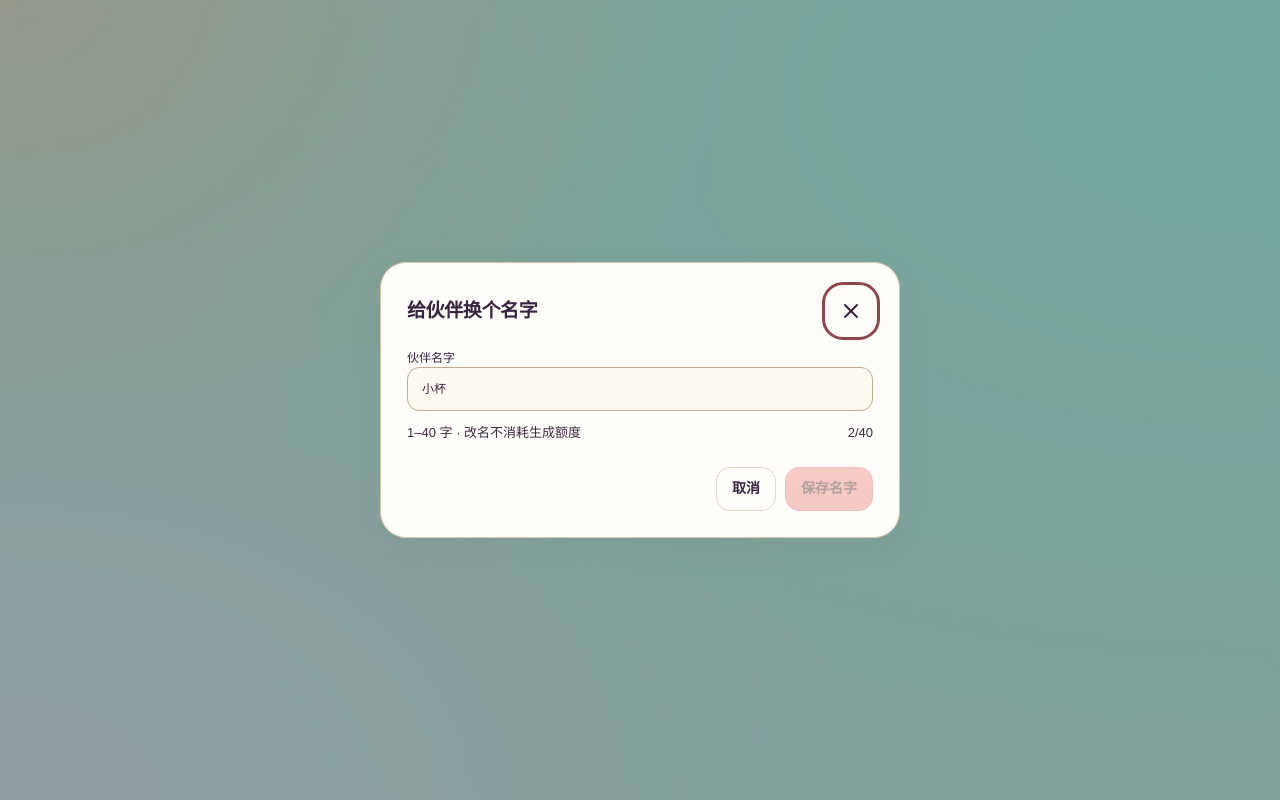
Test: keeps the typed name after a lost response and queries before saving again
Replace the text in the field labelled "伙伴名字" with "新名字": (640, 389) [407,367,873,411]
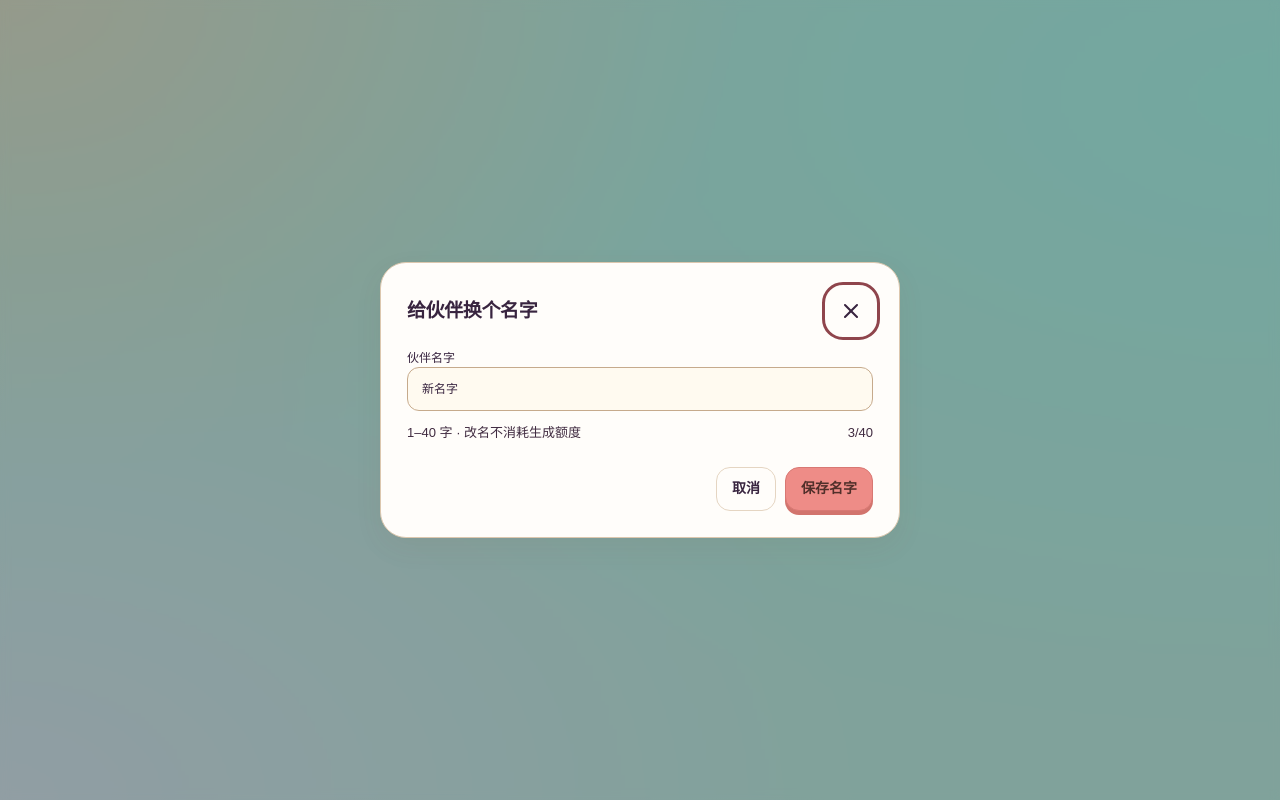
Click the button "保存名字": (829, 489) [785,467,873,511]
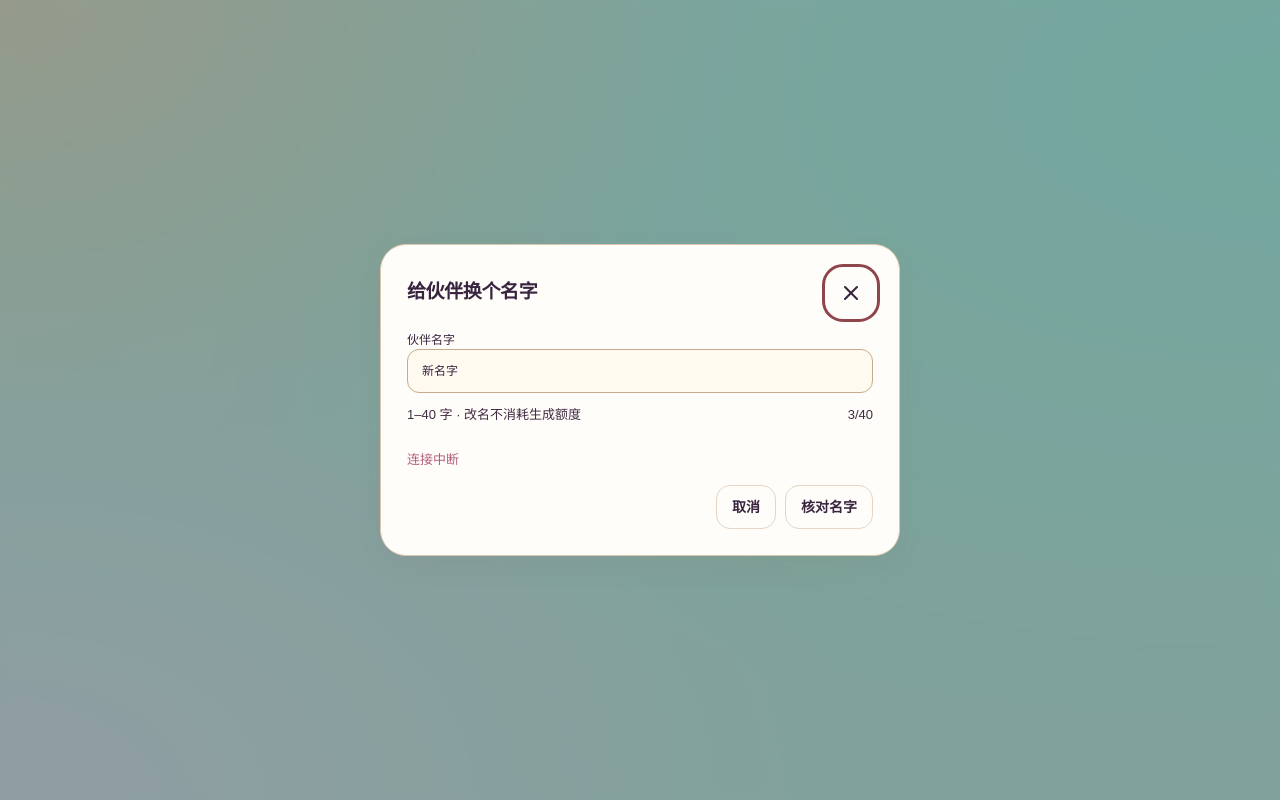
Click the button "核对名字": (829, 507) [785,485,873,529]
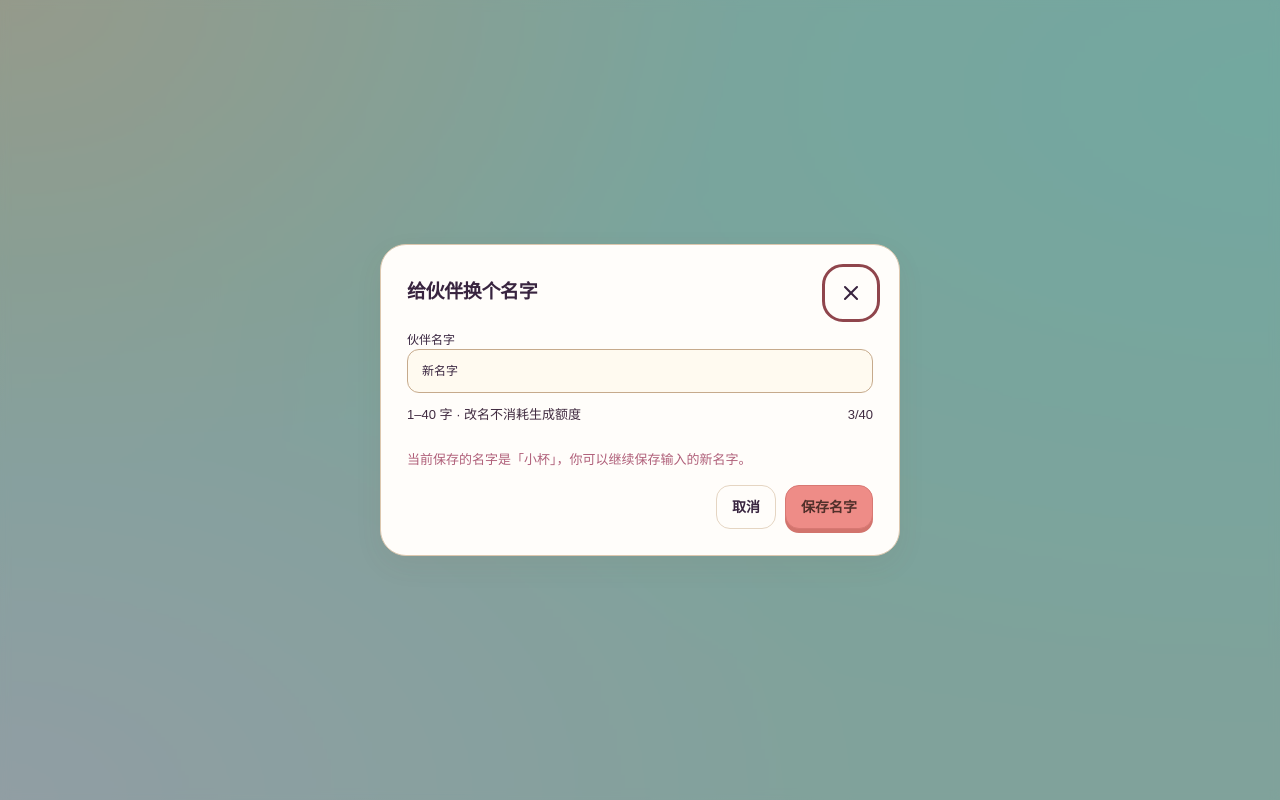
Now the button "保存名字" is shown, box [785,485,873,529]
